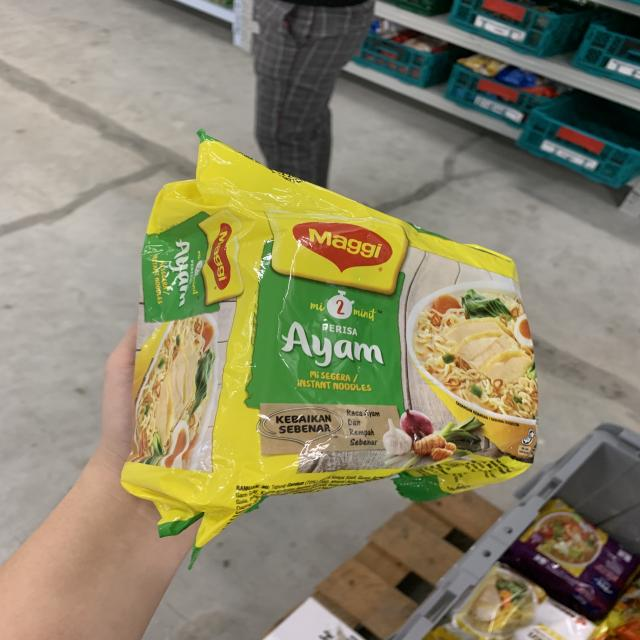object_name: (175, 175, 537, 499)
